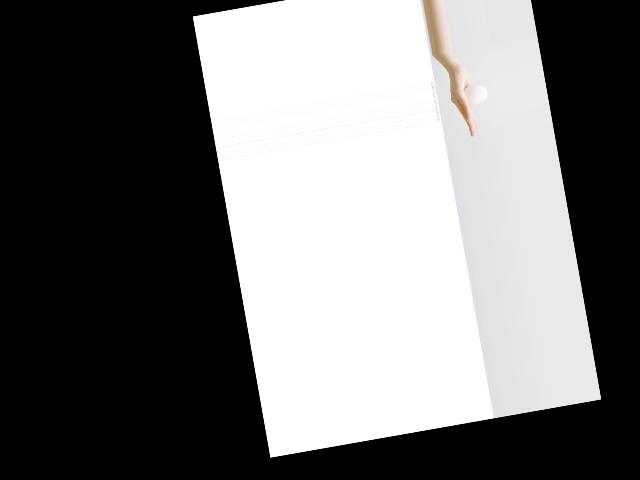egg: (463, 83, 488, 105)
